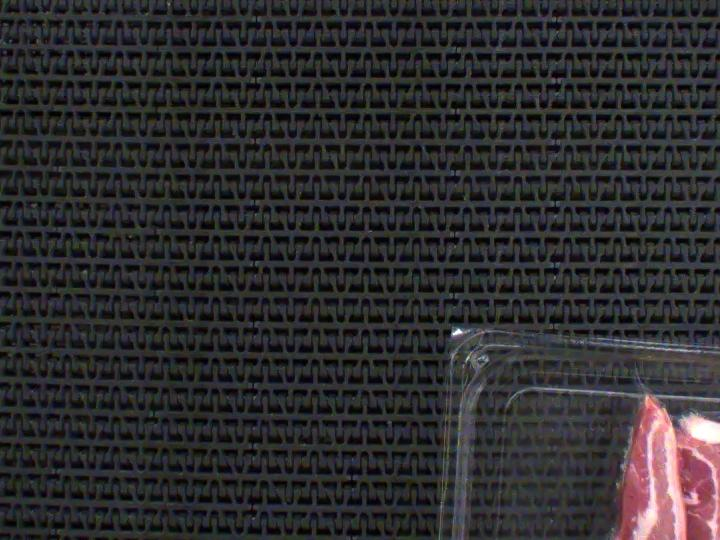unsealed: (573, 365, 720, 540)
